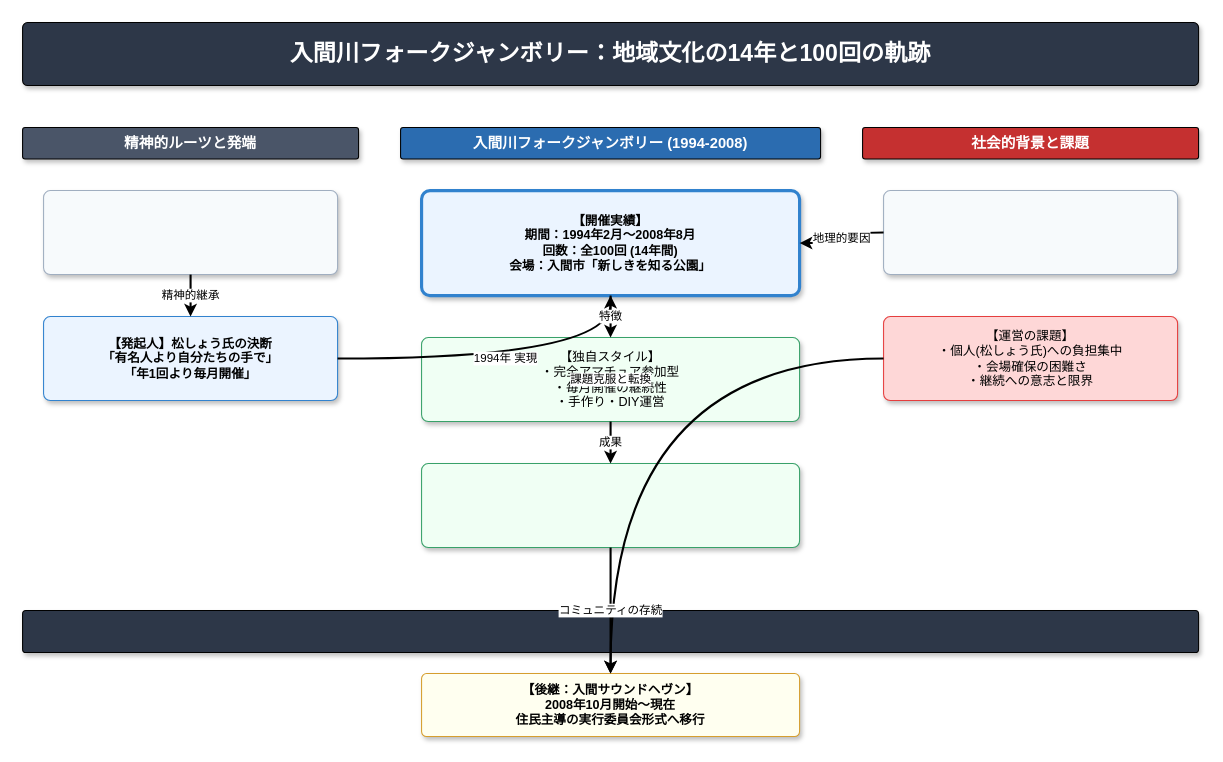
Some shapes in this 1223 by 762 pixel diagram are drawn without their labels. Each missing label, with the centre of its shape:
"【コミュニティ形成】 出演者・観客の境界なし 松しょう氏を中心とした 緩やかなネットワーク" goes at point 611,506.
"【原風景】 全日本フォークジャンボリー (1969-1971 中津川)" goes at point 191,233.
"【地域的背景】 入間・狭山エリアの文化土壌 (米軍ハウス文化/フラット)" goes at point 1031,233.
"未来への継承：個人の情熱から地域文化インフラへ" goes at point 611,632.
